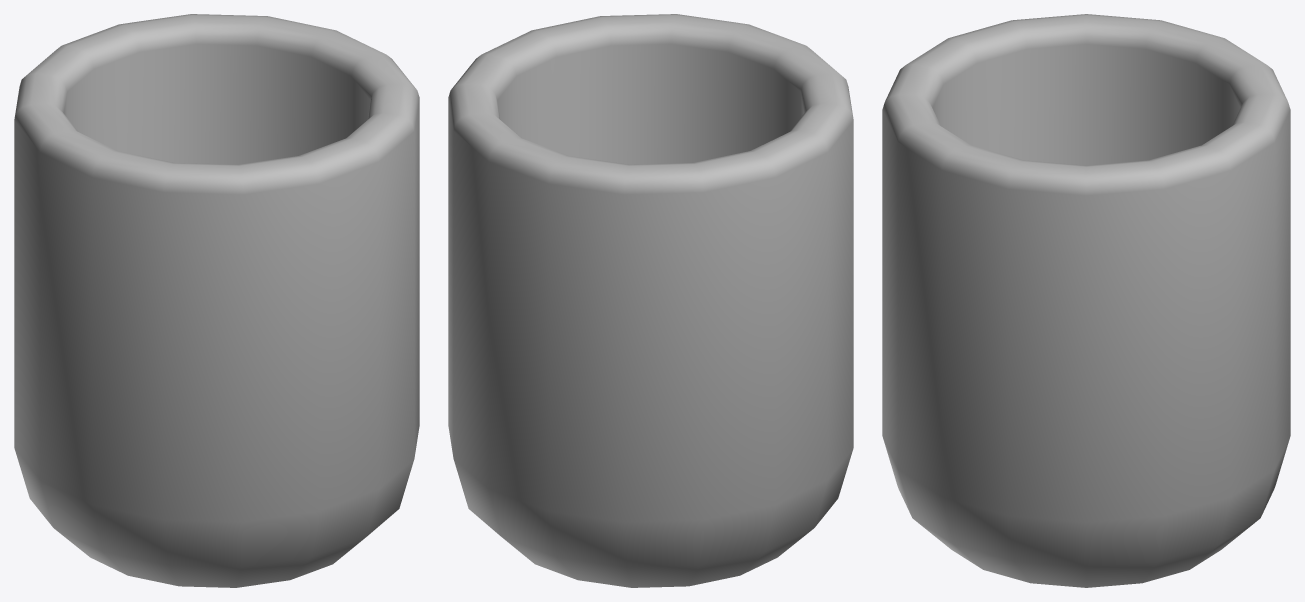
The model's file is Pen Holder02.fbx.
The picture shows the model from 3 angles, left to right: view 1: azimuth 30°, elevation 25°; view 2: azimuth 150°, elevation 25°; view 3: azimuth 270°, elevation 25°; orthographic projection.
Parts seen in each view (by area): view 1: Pen Holder02; view 2: Pen Holder02; view 3: Pen Holder02.
Boxes of the visible parts, <box> form: Pen Holder02: <box>14,14,419,587</box>; Pen Holder02: <box>448,14,853,587</box>; Pen Holder02: <box>882,14,1290,587</box>.
Bounding box in the file's own units: 0.087 × 0.087 × 0.1015.
